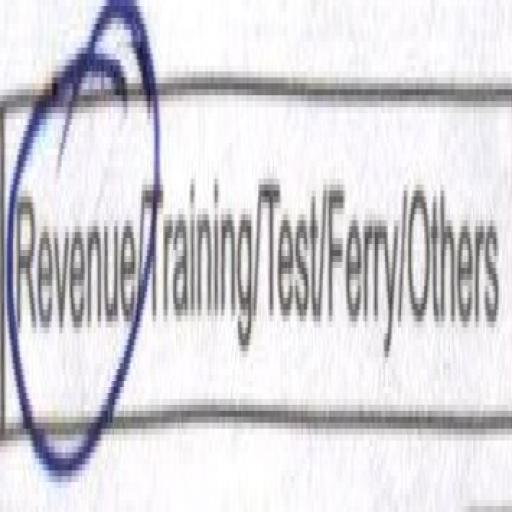check: (0, 30, 139, 509)
